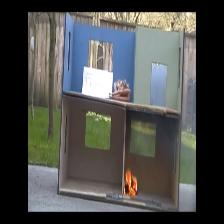fire: (123, 166, 138, 198)
